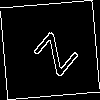Z: (25, 25, 79, 78)
